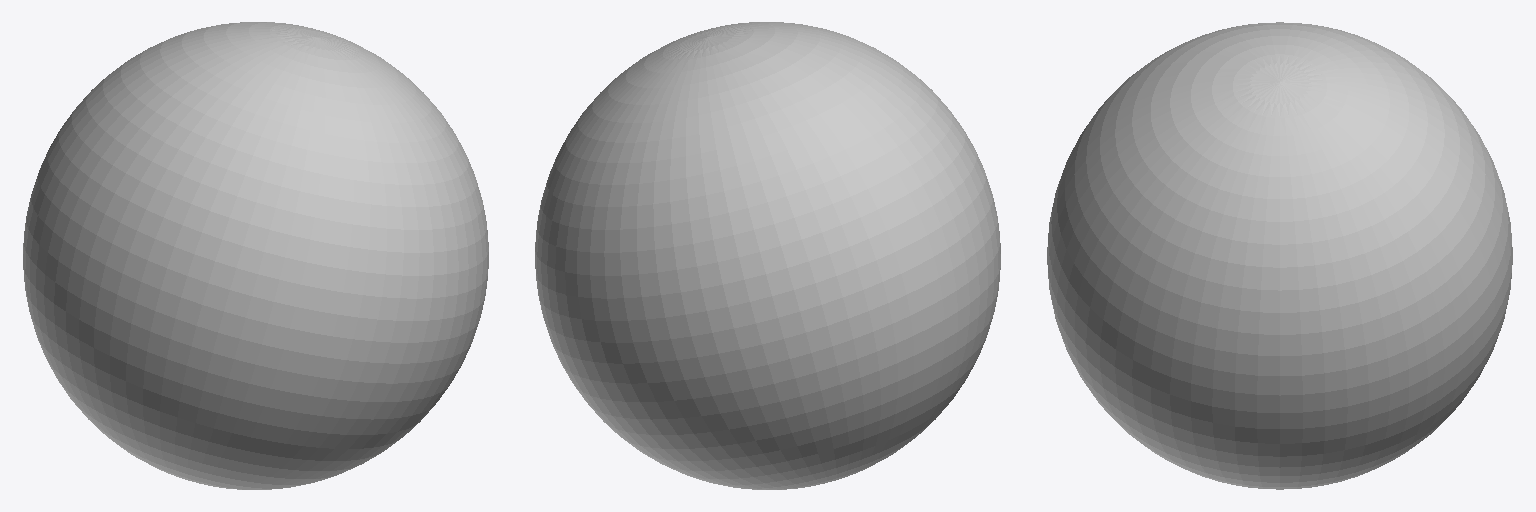
The model's file is Earth.obj.
3 views of the same model, side by side, from view 1: azimuth 30°, elevation 25°; view 2: azimuth 150°, elevation 25°; view 3: azimuth 270°, elevation 25° (orthographic).
Parts seen in each view (by area): view 1: Earth_Sphere; view 2: Earth_Sphere; view 3: Earth_Sphere.
Boxes of the visible parts, <box> form: Earth_Sphere: <box>23,22,488,489</box>; Earth_Sphere: <box>535,22,1000,489</box>; Earth_Sphere: <box>1047,22,1512,489</box>.
Size of the model in its own units: 395 by 397 by 395.